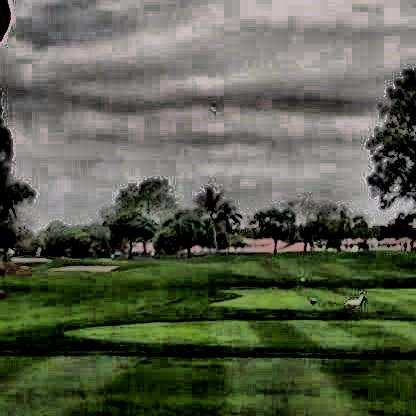golfball: (206, 98, 214, 105)
